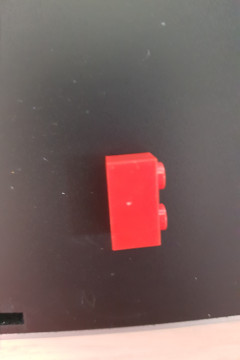1x2 red: (101, 150, 169, 253)
